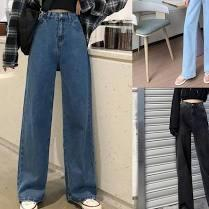pants: (15, 11, 101, 201), (172, 99, 209, 209), (177, 0, 209, 77)
